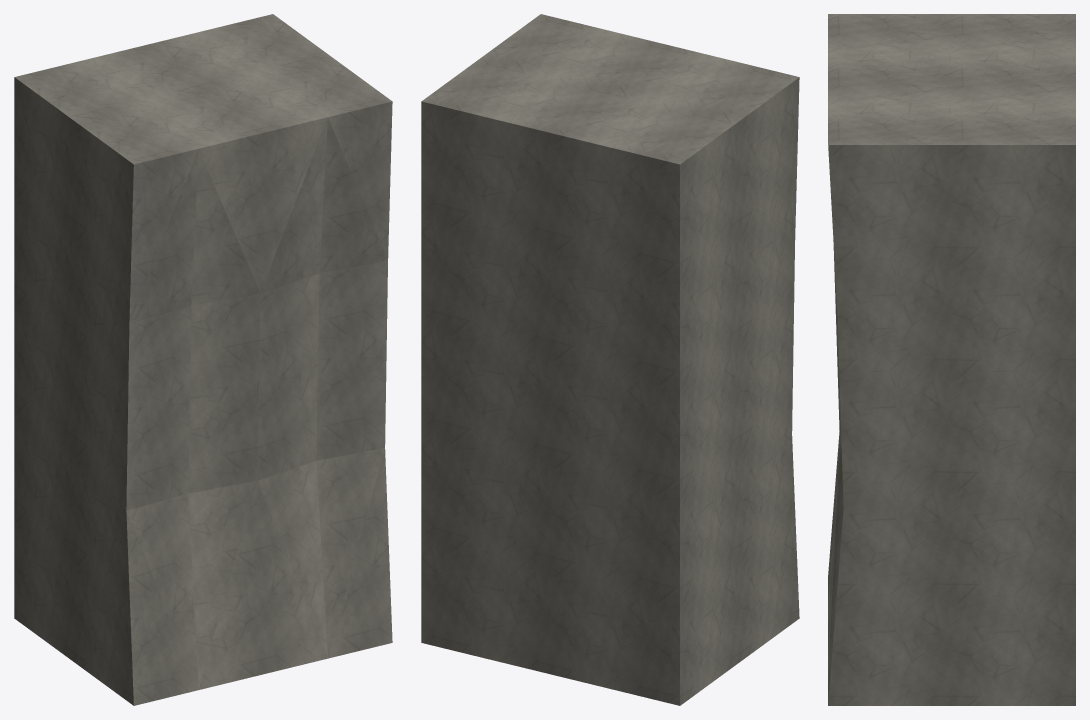
Rendered from Furn_Cliff.fbx.
3 views of the same model, side by side, from view 1: azimuth 30°, elevation 25°; view 2: azimuth 150°, elevation 25°; view 3: azimuth 270°, elevation 25° (orthographic). The views are drawn at different scales.
Parts seen in each view (by area): view 1: Furn_Cliff_Mesh; view 2: Furn_Cliff_Mesh; view 3: Furn_Cliff_Mesh.
Boxes of the visible parts, bbox=[...] form: Furn_Cliff_Mesh: bbox=[14, 14, 392, 705]; Furn_Cliff_Mesh: bbox=[421, 14, 799, 705]; Furn_Cliff_Mesh: bbox=[828, 14, 1075, 705].
Size of the model in its own units: 10 by 20 by 8.
